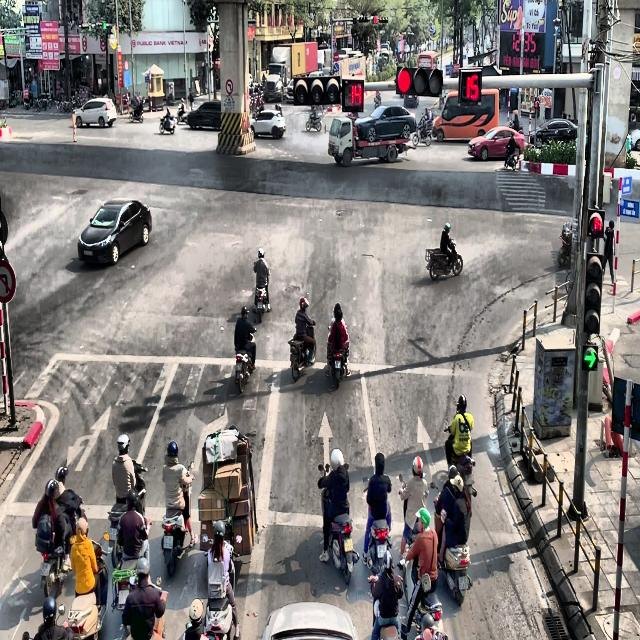CAR: (77, 199, 152, 266), (261, 602, 360, 640), (354, 104, 417, 142), (468, 126, 525, 161), (529, 118, 578, 148), (73, 97, 117, 128), (250, 108, 286, 140), (187, 100, 221, 130), (628, 128, 640, 150)
MOTORBIKE: (430, 481, 473, 606), (317, 464, 359, 585), (36, 506, 88, 599), (62, 540, 110, 639), (398, 554, 448, 640), (161, 461, 195, 577), (111, 516, 151, 613), (106, 460, 148, 552), (362, 476, 393, 573), (398, 473, 429, 568), (444, 427, 476, 498), (288, 321, 316, 382), (425, 240, 463, 280), (325, 325, 349, 388), (234, 329, 256, 393), (252, 272, 271, 323), (558, 221, 573, 266), (412, 117, 432, 147), (306, 105, 322, 132), (504, 145, 519, 171), (129, 98, 144, 123), (159, 113, 176, 134), (177, 97, 187, 122)
TRAFFIC_LIGHT: (584, 251, 603, 334), (395, 65, 443, 97), (458, 68, 482, 104), (342, 78, 364, 112), (587, 208, 605, 237), (582, 344, 598, 372), (373, 16, 388, 23)
